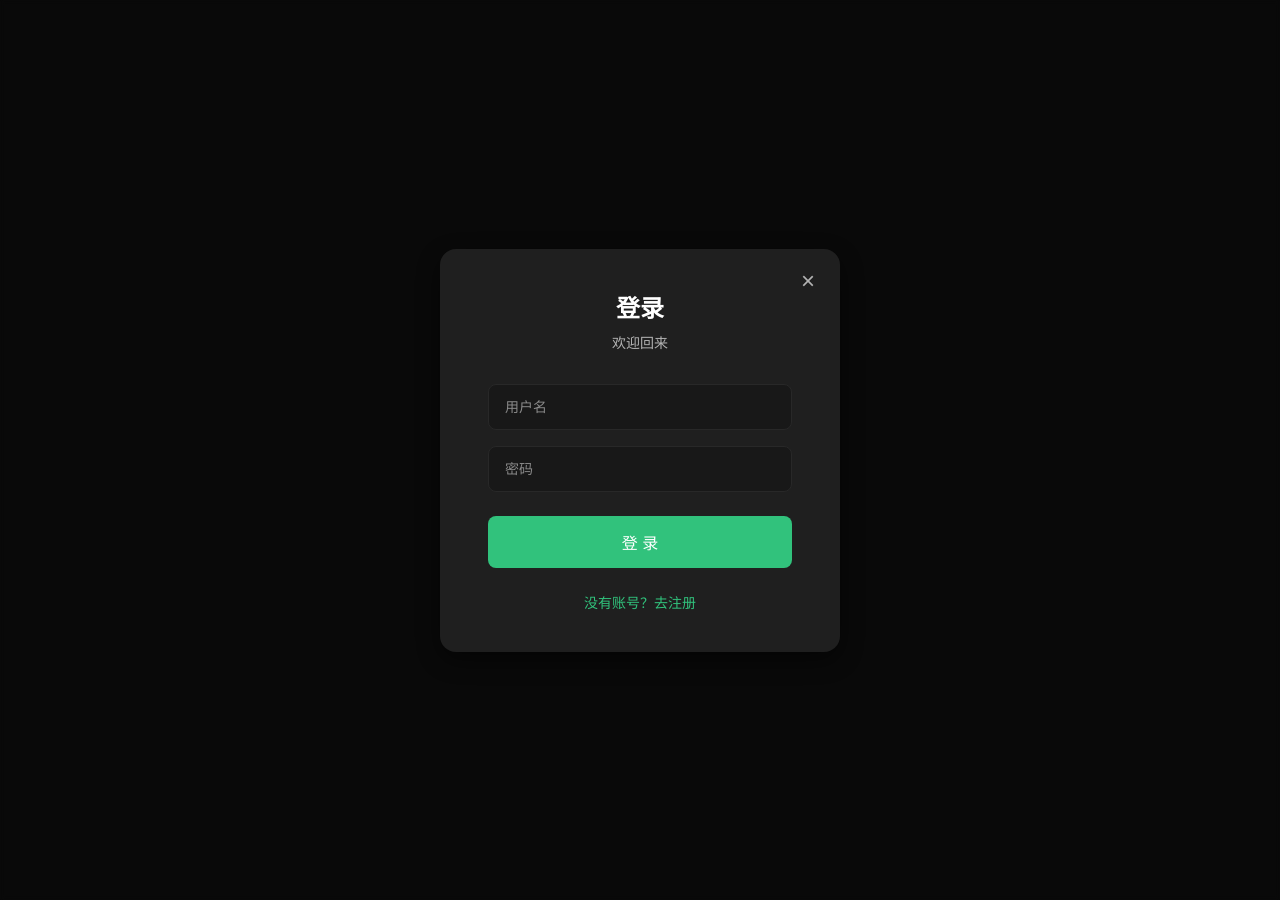
Test: LoginModal › 登录验证: 空格用户名和密码应显示错误
Click the button with class "submit-btn".
click(640, 542)  # box x1=488 y1=516 x2=792 y2=568
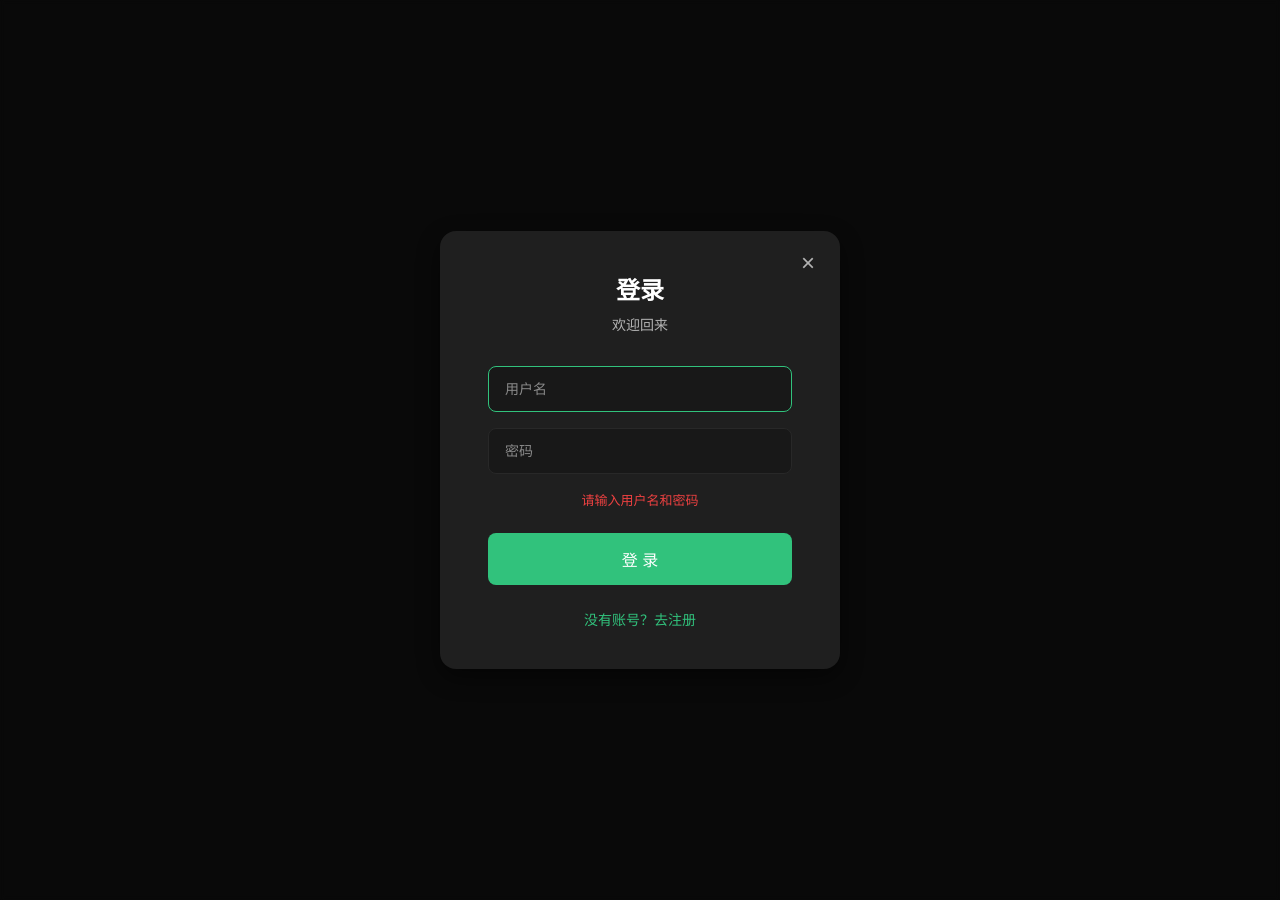
Expected: the text with class "error-msg" reads "请输入用户名和密码", x1=582 y1=492 x2=698 y2=508
